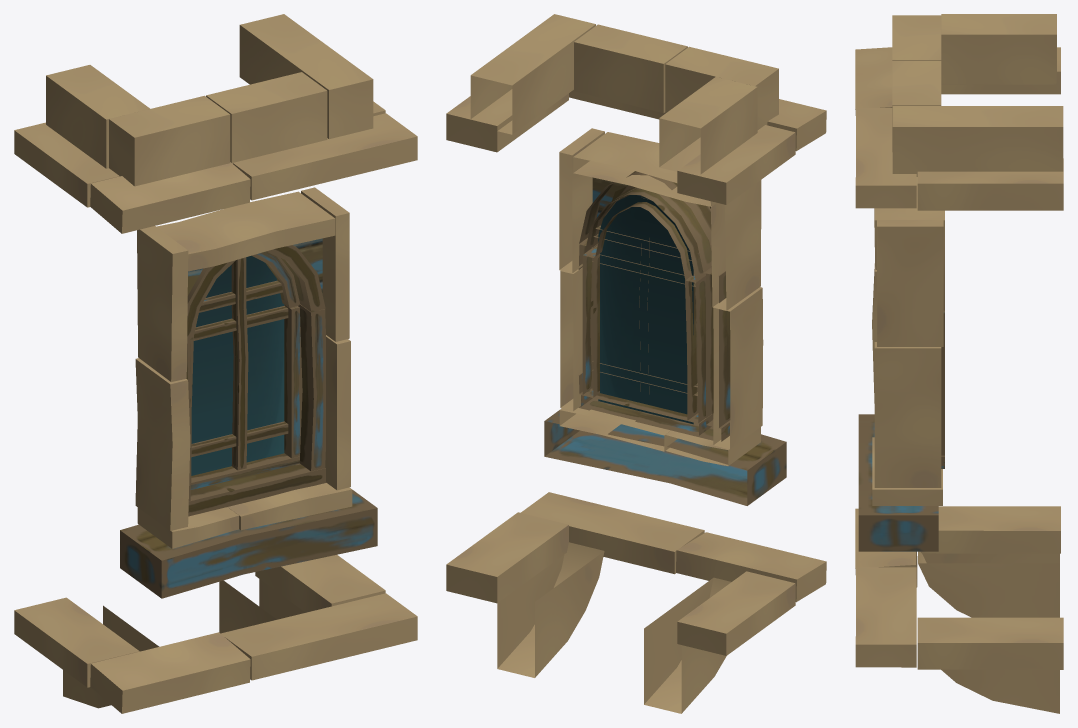
File: A_Addon_BigWindow_E_kitPart.FBX
3 views of the same model, side by side, from view 1: azimuth 30°, elevation 25°; view 2: azimuth 150°, elevation 25°; view 3: azimuth 270°, elevation 25° (orthographic). The views are drawn at different scales.
Visible parts, largest first — view 1: A_Addon_BigWindow_E_kitPart; view 2: A_Addon_BigWindow_E_kitPart; view 3: A_Addon_BigWindow_E_kitPart.
Boxes of the visible parts, x1,y1,x2,y2 form: A_Addon_BigWindow_E_kitPart: (14,14,417,713); A_Addon_BigWindow_E_kitPart: (446,14,826,713); A_Addon_BigWindow_E_kitPart: (855,14,1063,713).
Size of the model in its own units: 107 by 215 by 67.83.
Materials: 1 (1 with a texture image).
